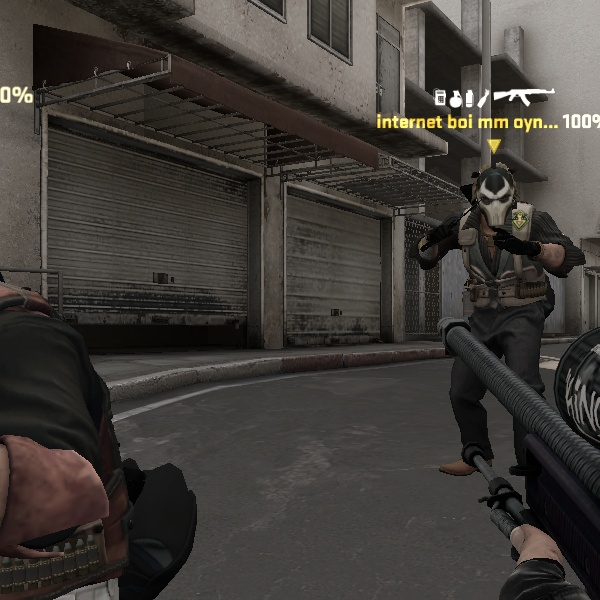t_body: (410, 158, 587, 503)
t_head: (458, 159, 535, 235)
